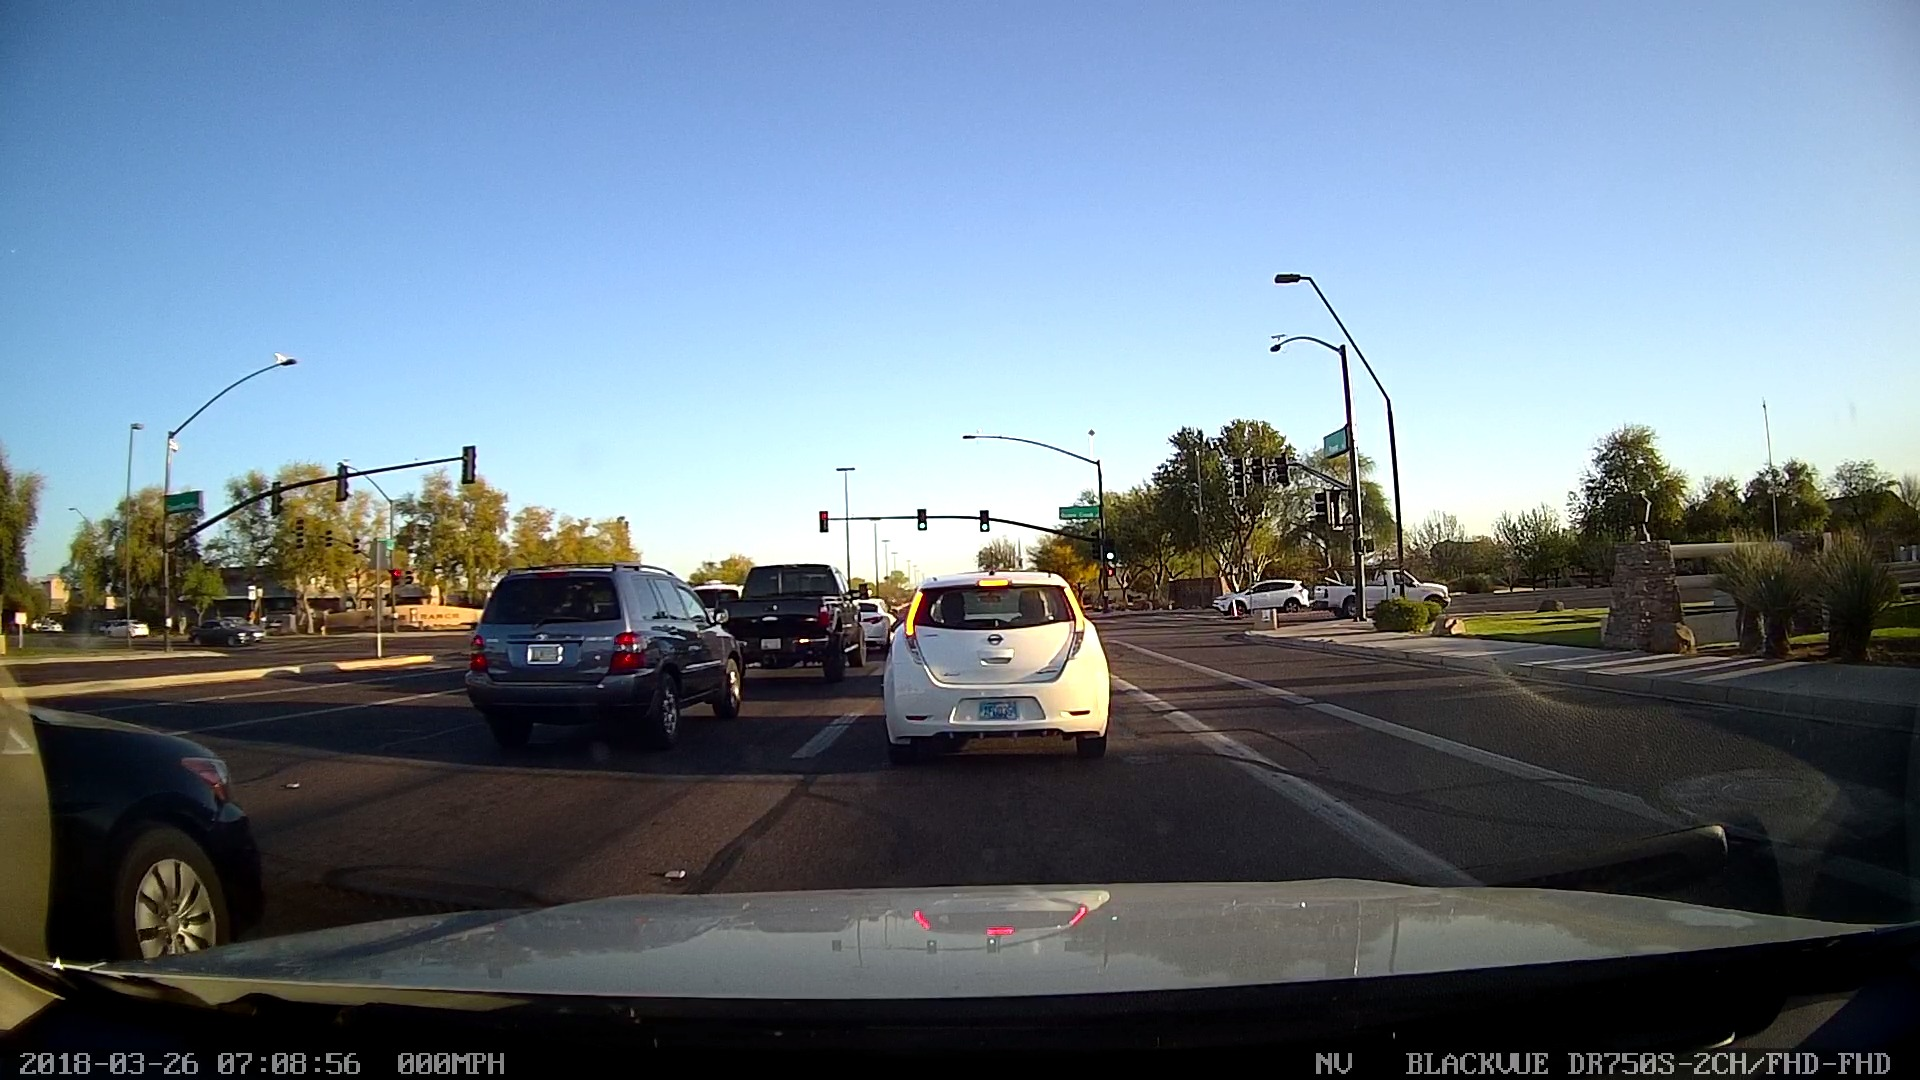vehicle: (446, 547, 756, 762), (857, 560, 1129, 771), (700, 541, 880, 687), (1211, 551, 1323, 644), (1342, 560, 1462, 620), (943, 686, 1034, 735), (501, 632, 579, 676)
